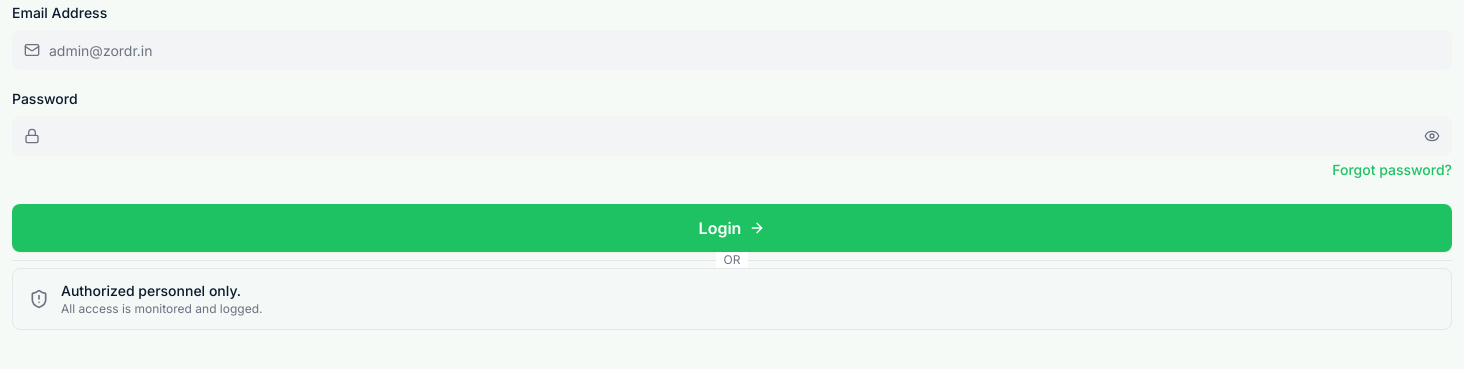
Test case: LoginForm › Validation errors › shows password required error when password is empty on submit
Type "admin@zordr.com" into the field labelled "Email Address" at (732, 50), box top-left (12, 30), bottom-right (1452, 70)
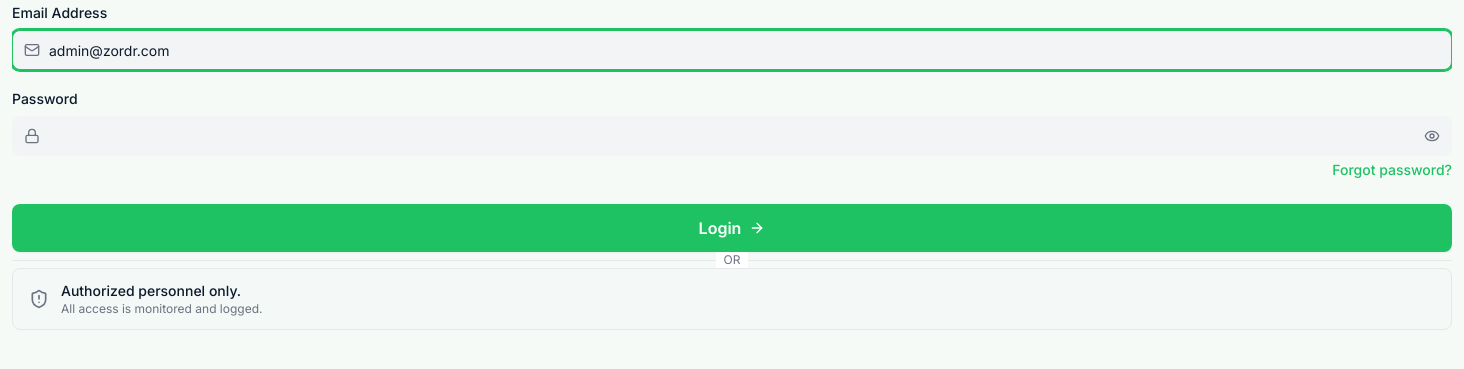
Click the button "Login" at (732, 228), box top-left (12, 204), bottom-right (1452, 252)
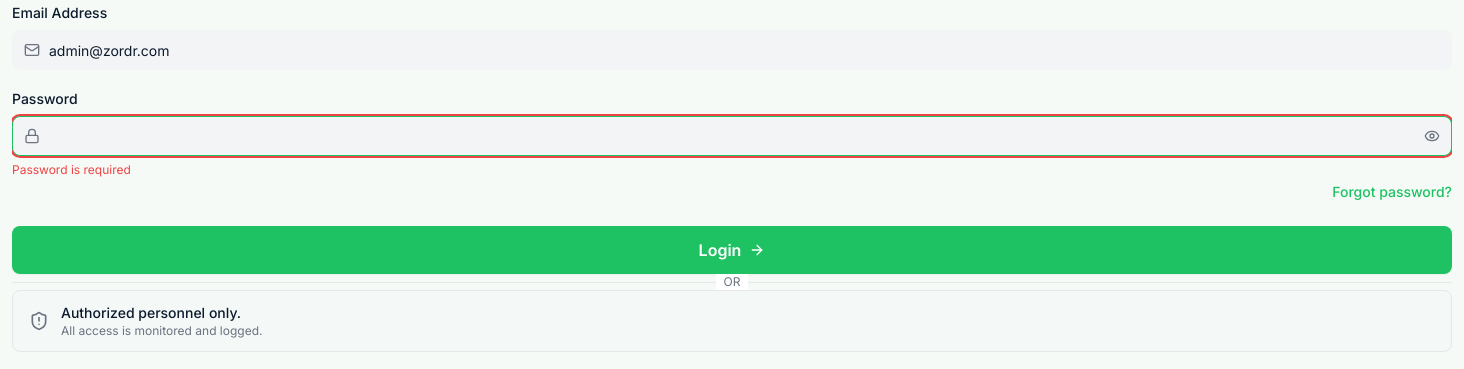
Now the text "Password is required" is shown, box top-left (12, 162), bottom-right (131, 177)
